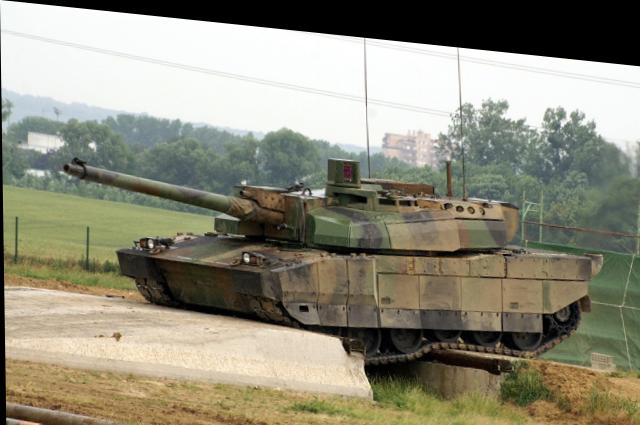tank: (113, 127, 612, 364)
